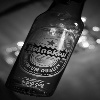beer: (1, 1, 85, 97)
